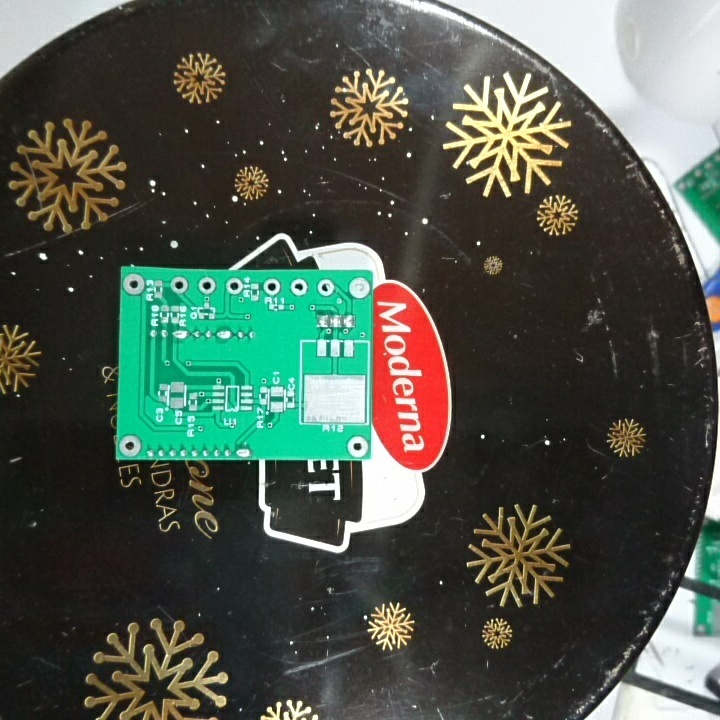F: (345, 275, 369, 300), (117, 434, 142, 458), (122, 272, 145, 297), (288, 276, 311, 299), (346, 435, 368, 458), (316, 276, 336, 300), (223, 276, 244, 297), (168, 275, 189, 296), (261, 277, 282, 297), (197, 275, 217, 296)
P: (214, 326, 234, 343), (171, 327, 191, 343), (233, 445, 251, 460)
